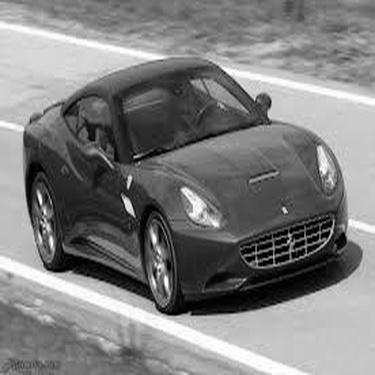car: (11, 49, 353, 322)
